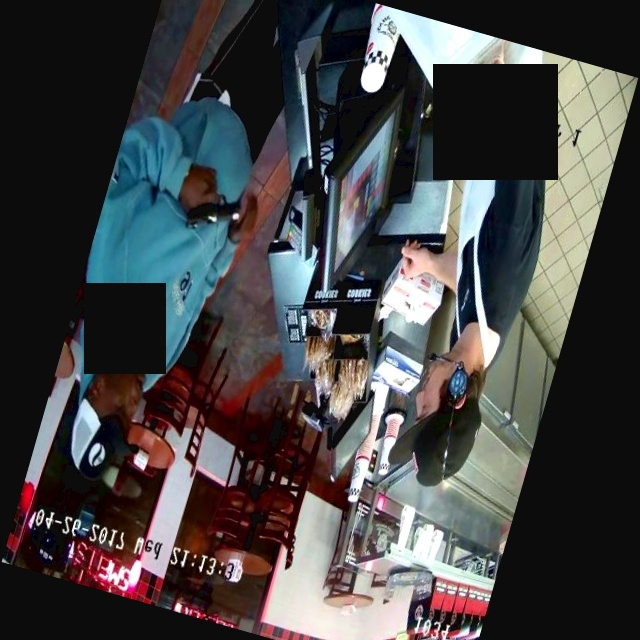gun: (162, 168, 261, 261)
